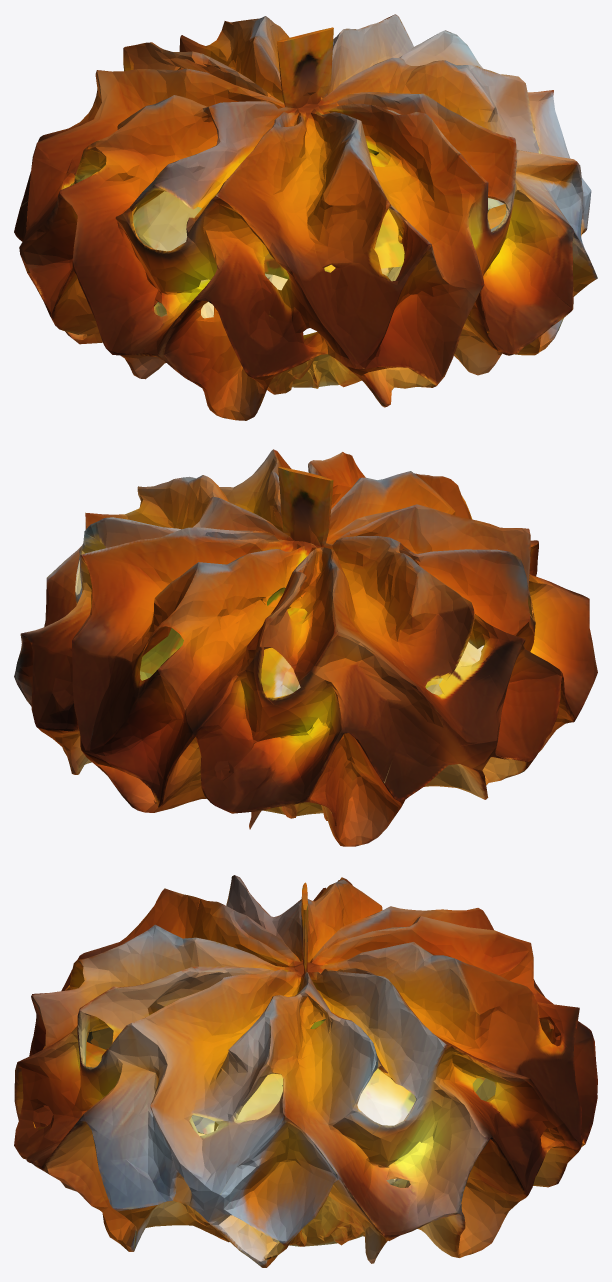
Rendered from recycled-paper-lamp-new-style.jpeg.glb.
The picture shows the model from 3 angles, top to bottom: view 1: azimuth 30°, elevation 25°; view 2: azimuth 150°, elevation 25°; view 3: azimuth 270°, elevation 25°; orthographic projection. The views are drawn at different scales.
Parts seen in each view (by area): view 1: world; view 2: world; view 3: world.
Part boxes in pixels (<box>): world: <box>14,14,597,420</box>; world: <box>14,449,597,846</box>; world: <box>14,875,597,1267</box>.
Size of the model in its own units: 0.9844 by 0.5894 by 0.9876.
1 material, 1 textured.
